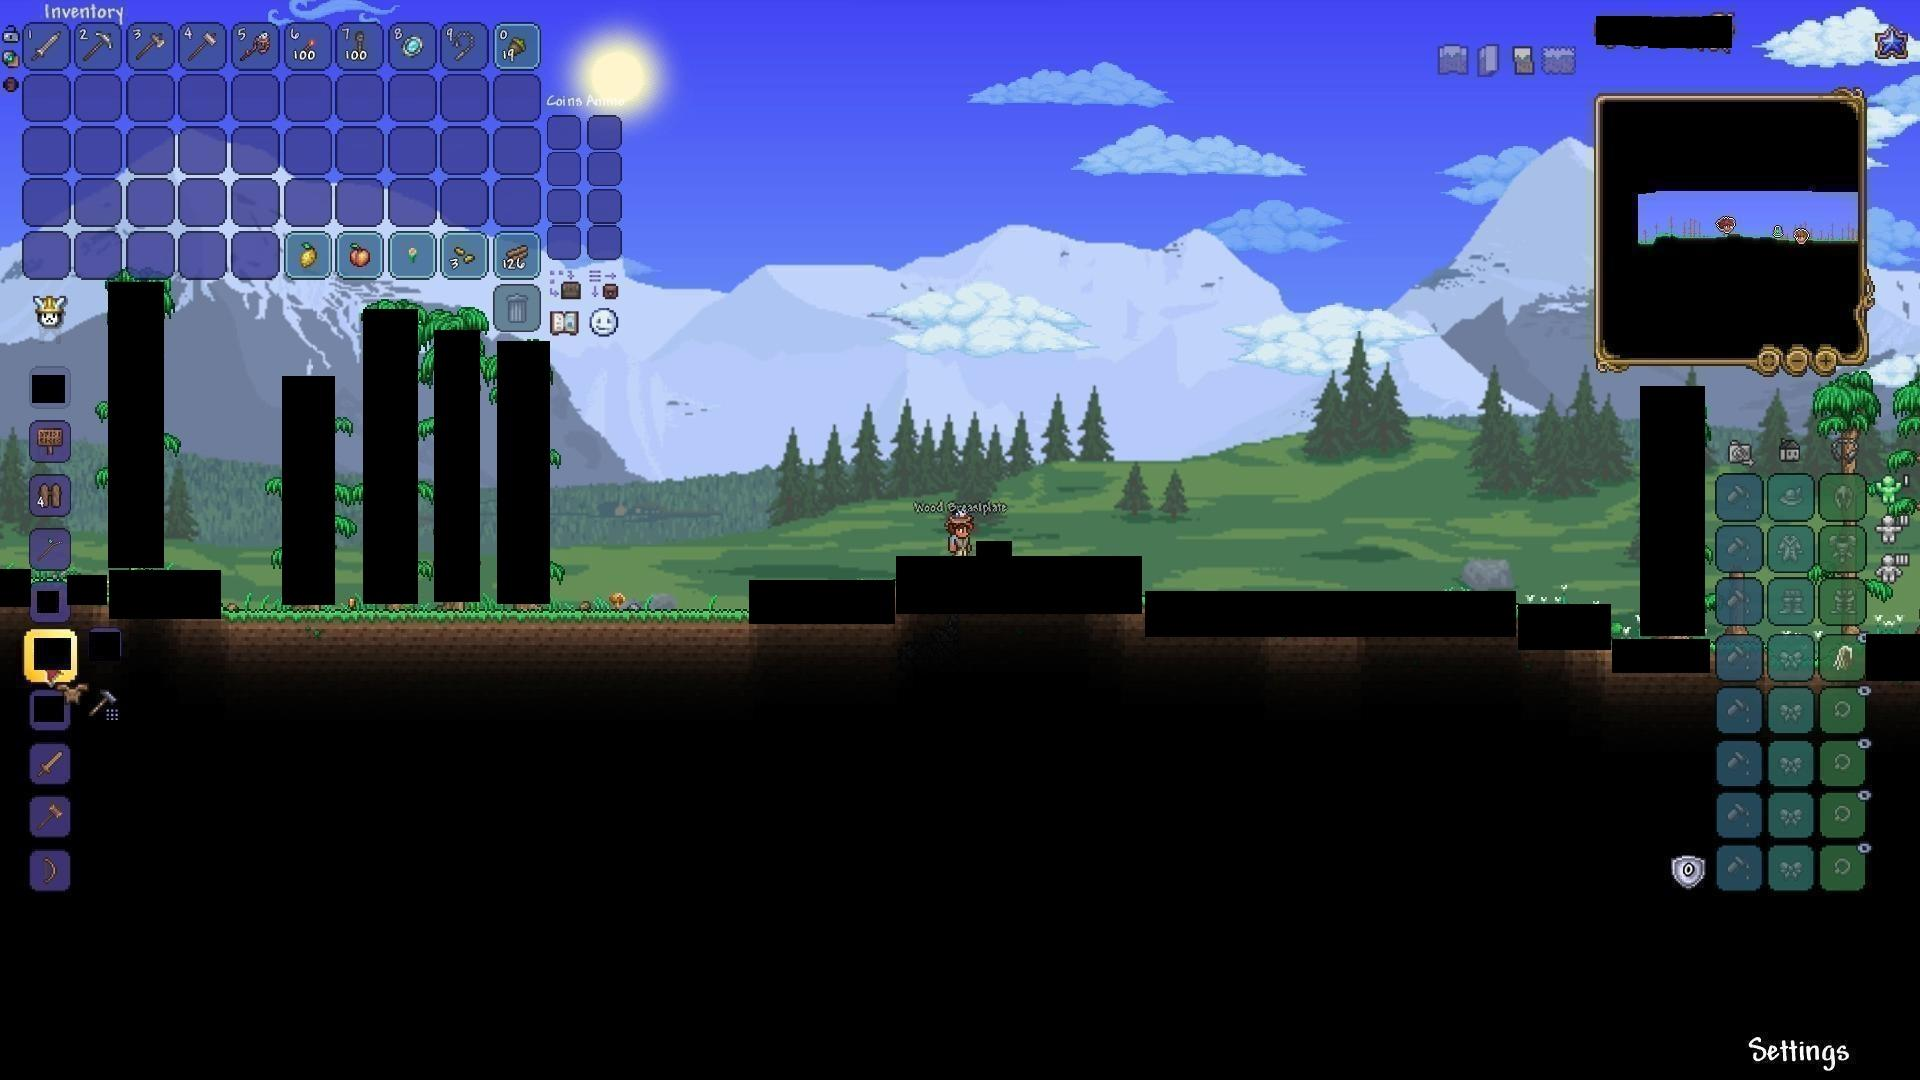breastplate: (59, 680, 88, 702)
dirt: (225, 607, 744, 644)
wood: (505, 241, 535, 269)
